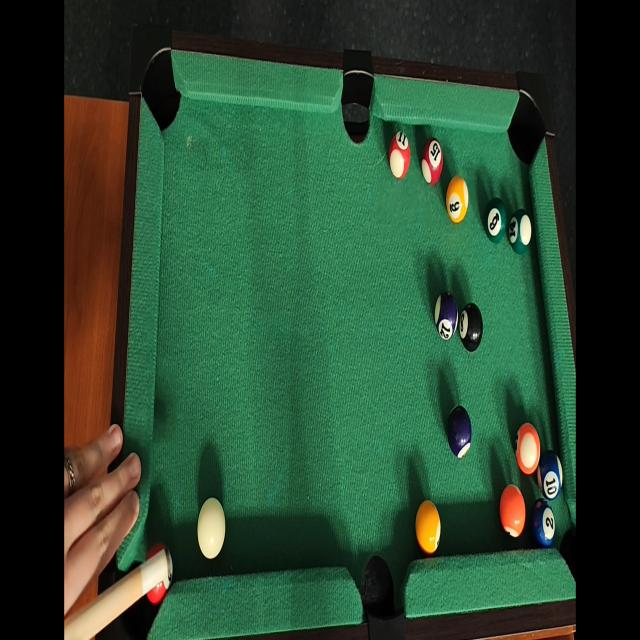cue ball: (196, 493, 226, 561)
other: (498, 478, 528, 548), (412, 495, 442, 559), (512, 417, 541, 480), (444, 402, 472, 462), (442, 169, 469, 229), (534, 447, 562, 503), (418, 132, 444, 190), (458, 296, 484, 351), (506, 206, 532, 260), (433, 284, 457, 342), (528, 501, 556, 550), (483, 196, 508, 249), (386, 127, 410, 182)
